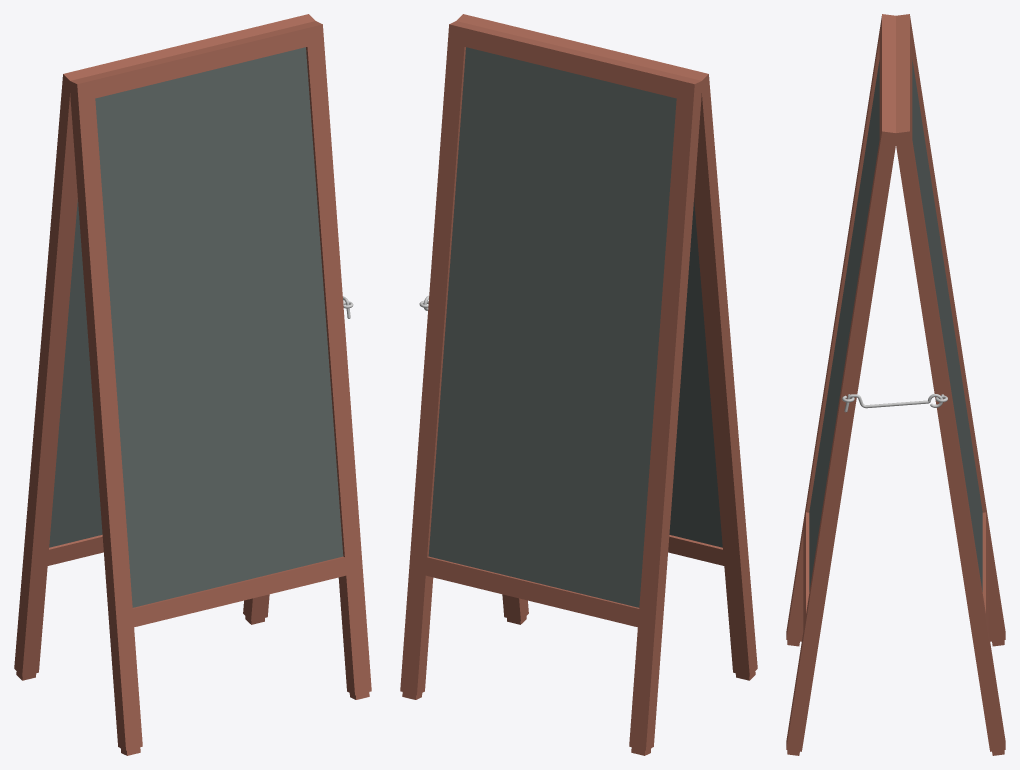
File: kanban.fbx
The picture shows the model from 3 angles, left to right: view 1: azimuth 30°, elevation 25°; view 2: azimuth 150°, elevation 25°; view 3: azimuth 270°, elevation 25°; orthographic projection. The views are drawn at different scales.
Visible parts, largest first — view 1: Body; view 2: Body; view 3: Body.
Part boxes in pixels (box(x1,y1,x2,y2)): Body: box(14, 14, 371, 755); Body: box(400, 14, 757, 755); Body: box(786, 14, 1005, 755).
Size of the model in its own units: 46.22 by 109 by 34.75.
